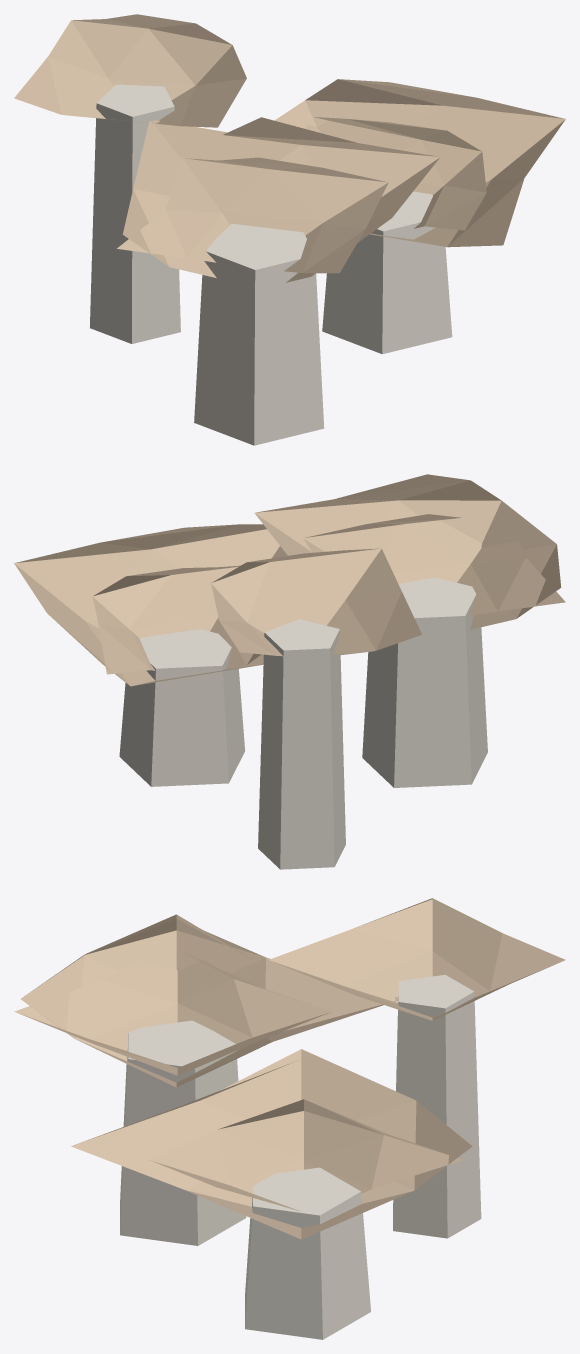
File: mushroom_v31.glb
The picture shows the model from 3 angles, top to bottom: view 1: azimuth 30°, elevation 25°; view 2: azimuth 150°, elevation 25°; view 3: azimuth 270°, elevation 25°; orthographic projection. The views are drawn at different scales.
Visible parts, largest first — view 1: lod0; view 2: lod0; view 3: lod0.
Part boxes in pixels (bbox=[...]): lod0: bbox=[14, 14, 565, 445]; lod0: bbox=[14, 474, 565, 869]; lod0: bbox=[14, 898, 565, 1339].
Size of what is drawn, in the model's own units: 0.8096 by 0.4693 by 0.748.
